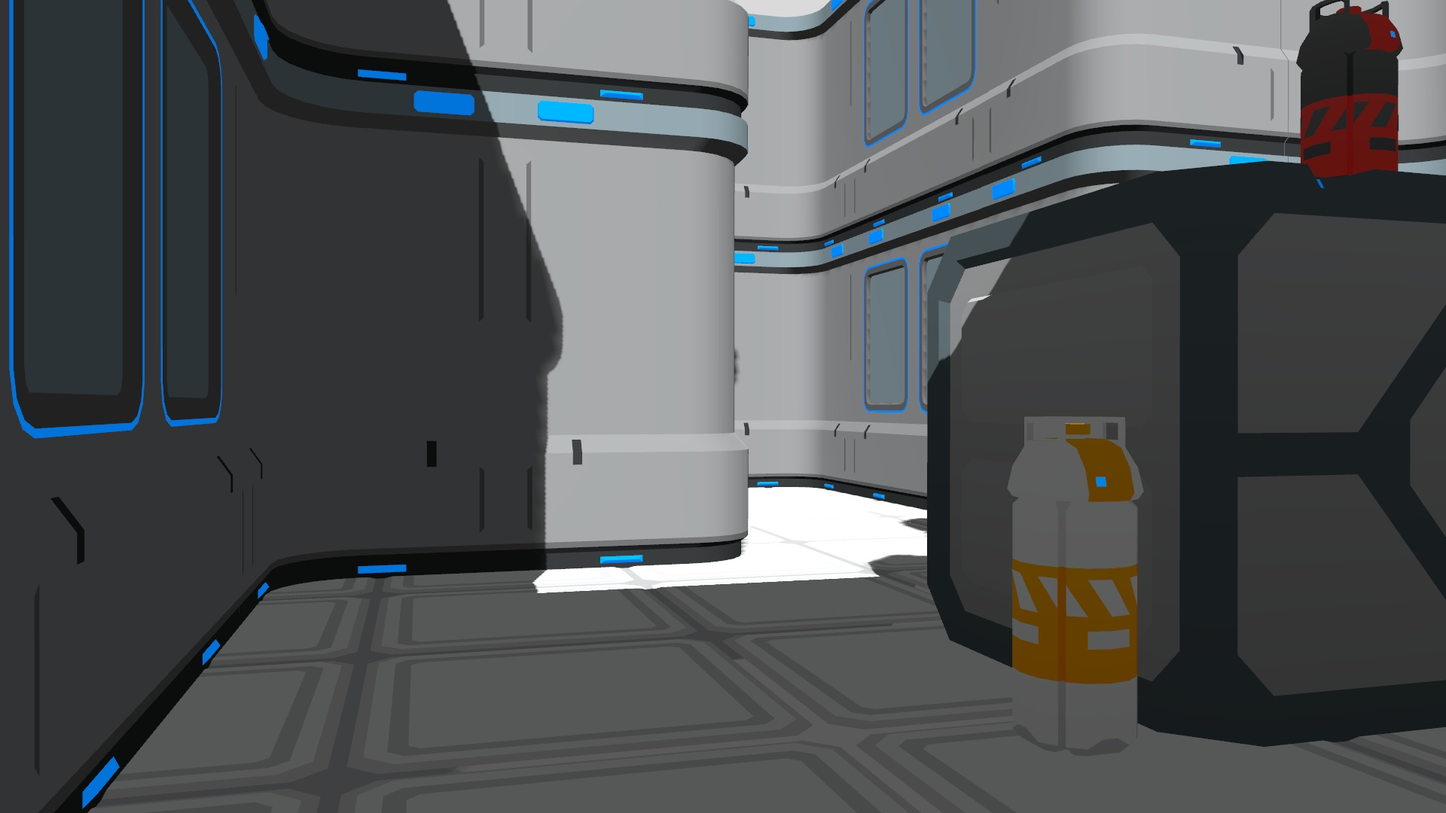red_barrel: (1291, 0, 1406, 192)
yellow_barrel: (1001, 402, 1148, 760)
